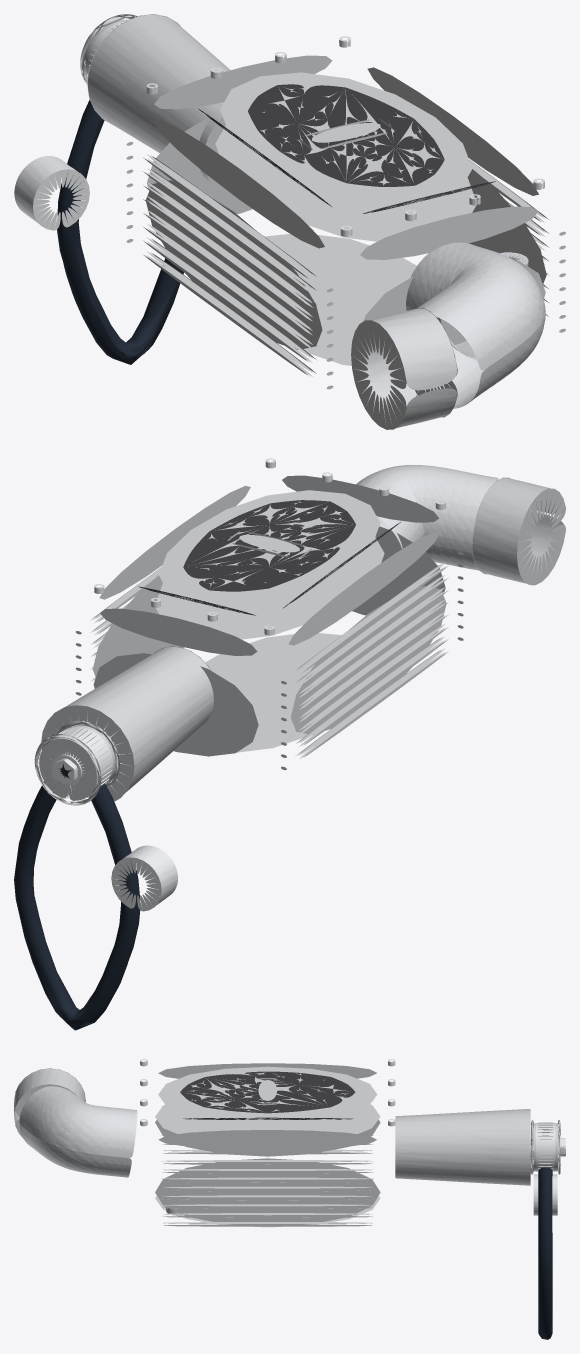
File: supercharger_twin_screw.glb
3 views of the same model, one above another, from view 1: azimuth 30°, elevation 25°; view 2: azimuth 150°, elevation 25°; view 3: azimuth 270°, elevation 25° (orthographic). The views are drawn at different scales.
Parts seen in each view (by area): view 1: Billet_Drive_Snout_Housing, Intake_Plenum_Rear_Elbow, Supercharger_Carbon_Top_Plate, Cogged_Supercharger_Drive_Belt, Belt_Tensioner_Idler_Pulley, Embossed_Apex_SC_Emblem; view 2: Billet_Drive_Snout_Housing, Supercharger_Carbon_Top_Plate, Cogged_Supercharger_Drive_Belt, Intake_Plenum_Rear_Elbow, Belt_Tensioner_Idler_Pulley, Embossed_Apex_SC_Emblem; view 3: Billet_Drive_Snout_Housing, Intake_Plenum_Rear_Elbow, Supercharger_Carbon_Top_Plate, Cogged_Supercharger_Drive_Belt, Belt_Tensioner_Idler_Pulley, Embossed_Apex_SC_Emblem.
Part boxes in pixels (x1=…): Billet_Drive_Snout_Housing: x1=87, y1=14, x2=565, y2=429; Intake_Plenum_Rear_Elbow: x1=390, y1=242, x2=545, y2=408; Supercharger_Carbon_Top_Plate: x1=198, y1=84, x2=495, y2=213; Cogged_Supercharger_Drive_Belt: x1=57, y1=100, x2=183, y2=364; Belt_Tensioner_Idler_Pulley: x1=14, y1=21, x2=544, y2=236; Embossed_Apex_SC_Emblem: x1=80, y1=14, x2=394, y2=149; Billet_Drive_Snout_Housing: x1=41, y1=475, x2=565, y2=801; Supercharger_Carbon_Top_Plate: x1=138, y1=500, x2=400, y2=615; Cogged_Supercharger_Drive_Belt: x1=14, y1=764, x2=140, y2=1030; Intake_Plenum_Rear_Elbow: x1=356, y1=465, x2=498, y2=570; Belt_Tensioner_Idler_Pulley: x1=45, y1=458, x2=445, y2=911; Embossed_Apex_SC_Emblem: x1=34, y1=531, x2=311, y2=805; Billet_Drive_Snout_Housing: x1=14, y1=1063, x2=530, y2=1227; Intake_Plenum_Rear_Elbow: x1=19, y1=1086, x2=137, y2=1177; Supercharger_Carbon_Top_Plate: x1=180, y1=1071, x2=355, y2=1119; Cogged_Supercharger_Drive_Belt: x1=538, y1=1166, x2=552, y2=1339; Belt_Tensioner_Idler_Pulley: x1=140, y1=1059, x2=565, y2=1215; Embossed_Apex_SC_Emblem: x1=258, y1=1078, x2=560, y2=1174.
Bounding box in the file's own units: 0.2712 × 0.3927 × 0.7876.
